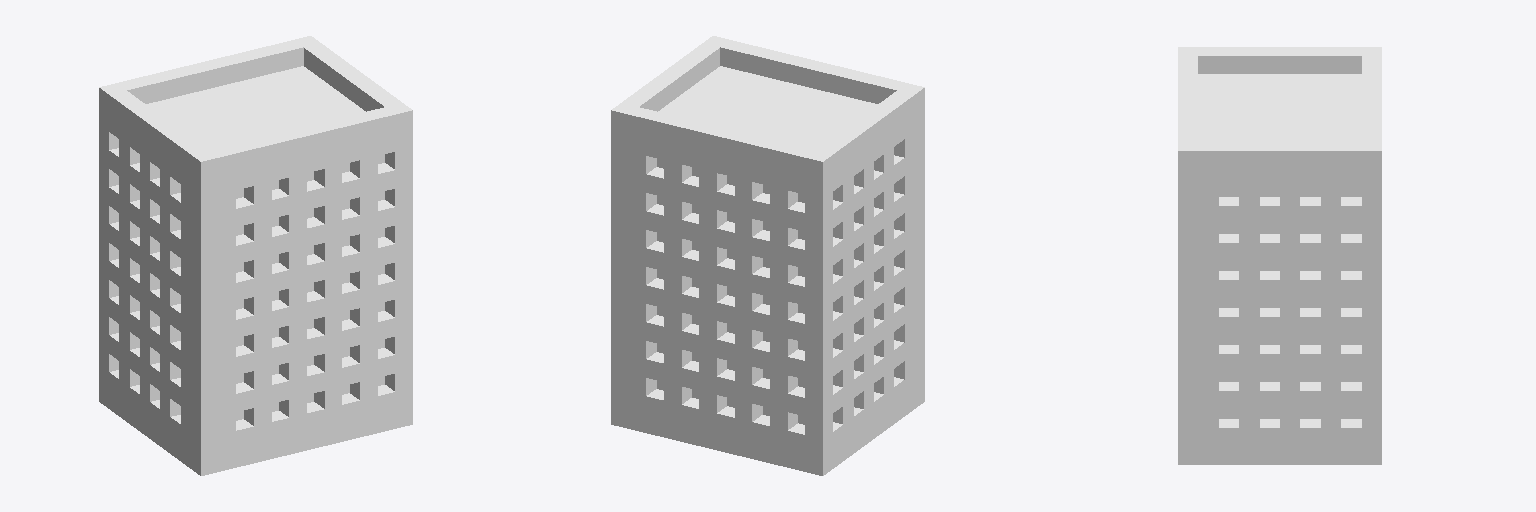
File: laundry.obj
The picture shows the model from 3 angles: view 1: azimuth 30°, elevation 25°; view 2: azimuth 150°, elevation 25°; view 3: azimuth 270°, elevation 25°; orthographic projection.
Parts seen in each view (by area): view 1: laundry; view 2: laundry; view 3: laundry.
Part boxes in pixels (left/top/right/bottom): laundry: left=99, top=36, right=412, bottom=475; laundry: left=611, top=36, right=924, bottom=475; laundry: left=1178, top=47, right=1381, bottom=464.
Size of the model in its own units: 12 by 17 by 10.